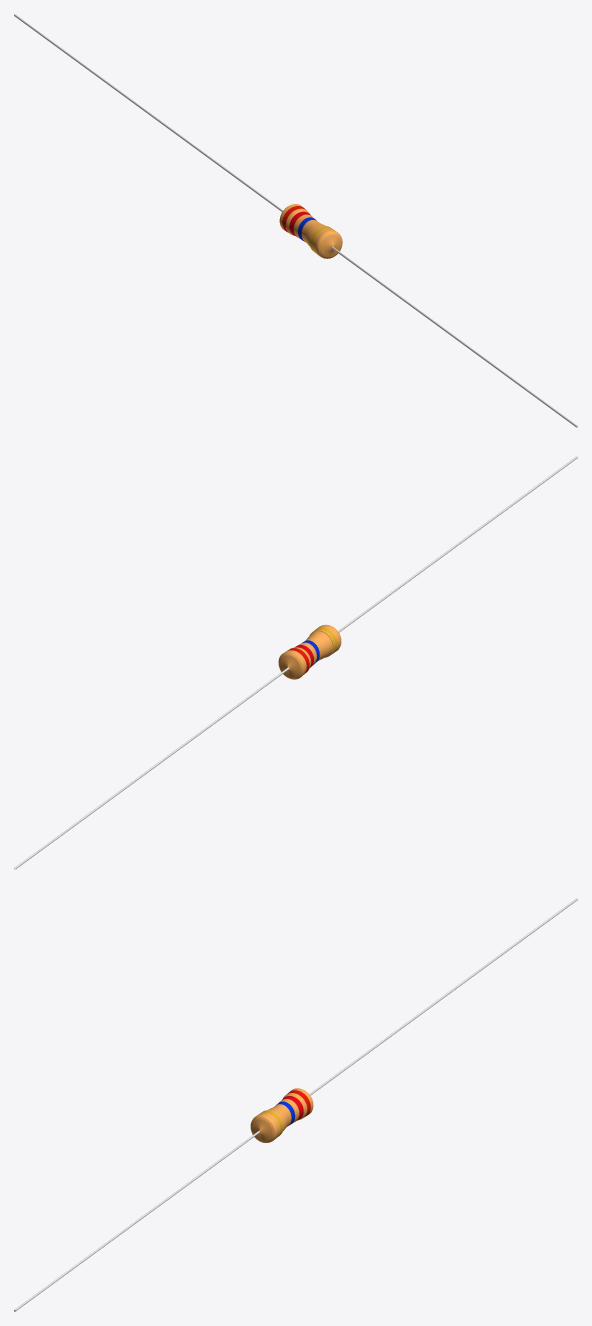
3 views of the same model, one above another, from view 1: azimuth 30°, elevation 25°; view 2: azimuth 150°, elevation 25°; view 3: azimuth 330°, elevation 25° (orthographic).
Parts seen in each view (by area): view 1: 針金, 本体; view 2: 針金, 本体; view 3: 針金, 本体.
Part boxes in pixels (x1=…): 針金: x1=14, y1=14, x2=577, y2=427; 本体: x1=279, y1=204, x2=342, y2=258; 針金: x1=14, y1=456, x2=577, y2=869; 本体: x1=278, y1=624, x2=341, y2=679; 針金: x1=14, y1=898, x2=577, y2=1311; 本体: x1=250, y1=1088, x2=313, y2=1142.
Bounding box in the file's own units: 8.53 × 318 × 8.53.
